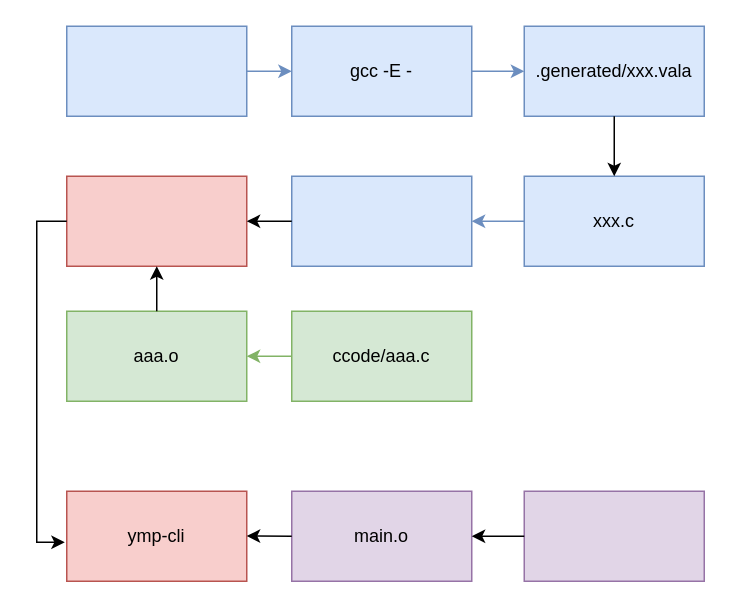
Some shapes in this 731 by 608 pixel diagram are drawn without their labels. The shapes that lost their labels are listed below. From the top down, each one's centre as x and y in pixels, then its label:
At (x=156, y=70): "constants.h + xx.vala".
At (x=156, y=220): "libymp.so".
At (x=381, y=220): "xxx.o".
At (x=613, y=535): "cli/main.vala".
